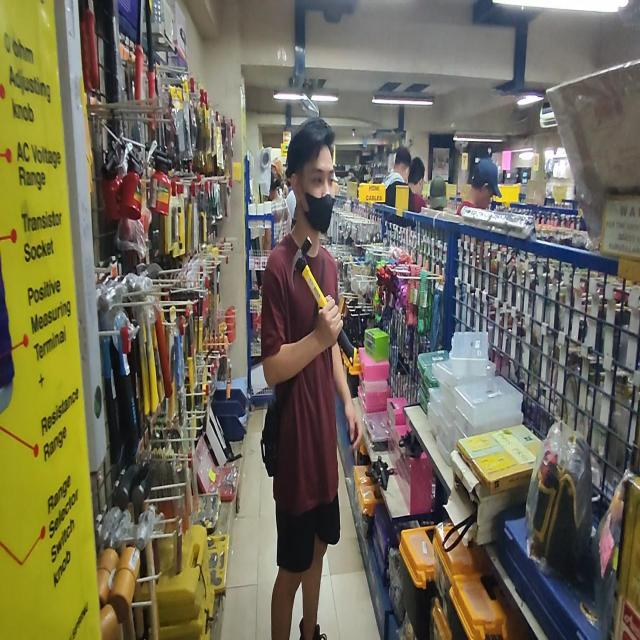hammer: (292, 235, 357, 368)
